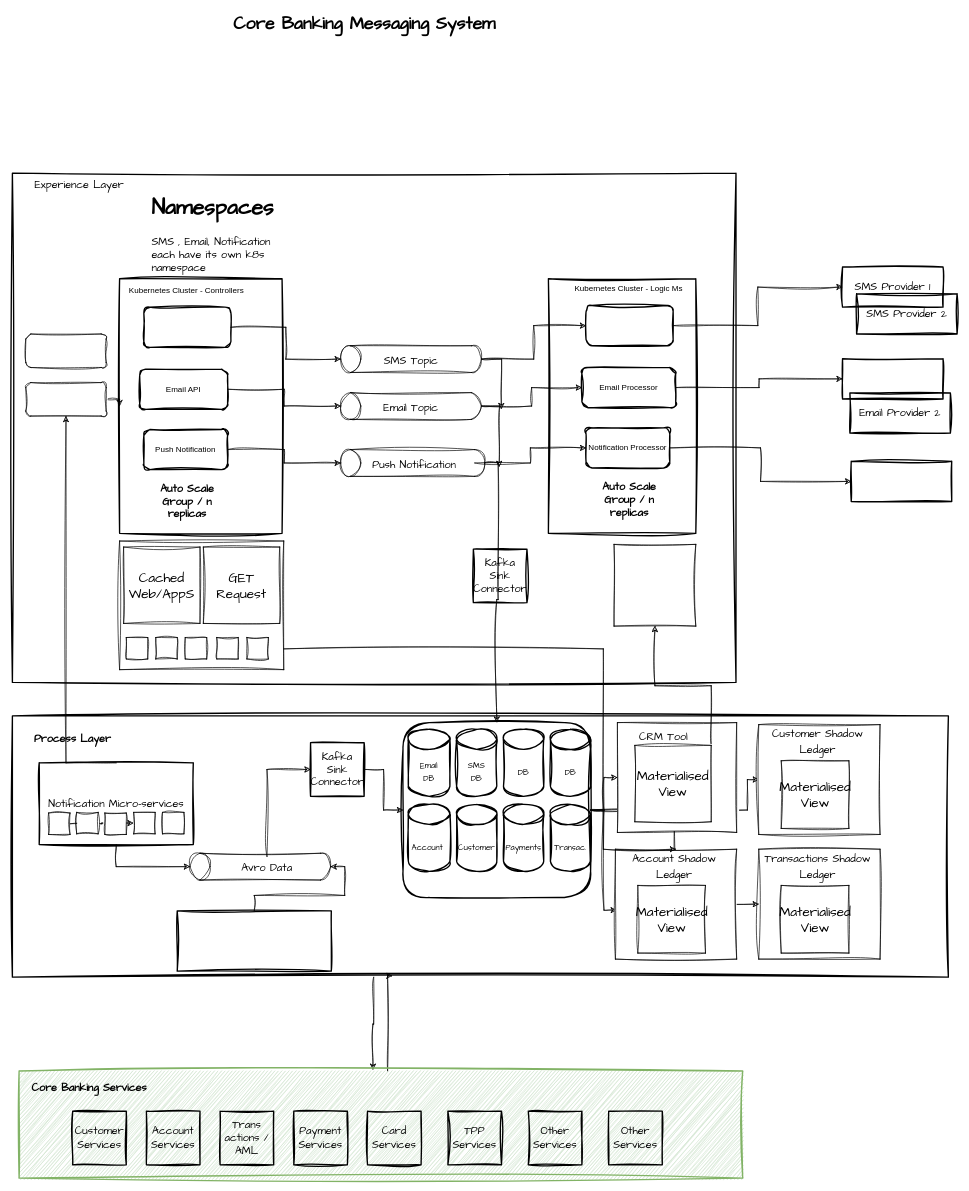
Some shapes in this 969 by 1191 pixel diagram are drawn without their labels. The centre of each missing label's shape, as x and y in pixels:
"Authentication Server" belongs at (x=65, y=350).
"CRP Frontend" belongs at (x=654, y=585).
"Email Provider 1" belongs at (x=892, y=378).
"Firebase" belongs at (x=901, y=481).
"Load Balancer" belongs at (x=65, y=399).
"RAW Data Notification Processor" belongs at (x=254, y=941).
"SMS API" belongs at (x=187, y=327).
"SMS Processor" belongs at (x=629, y=325).
